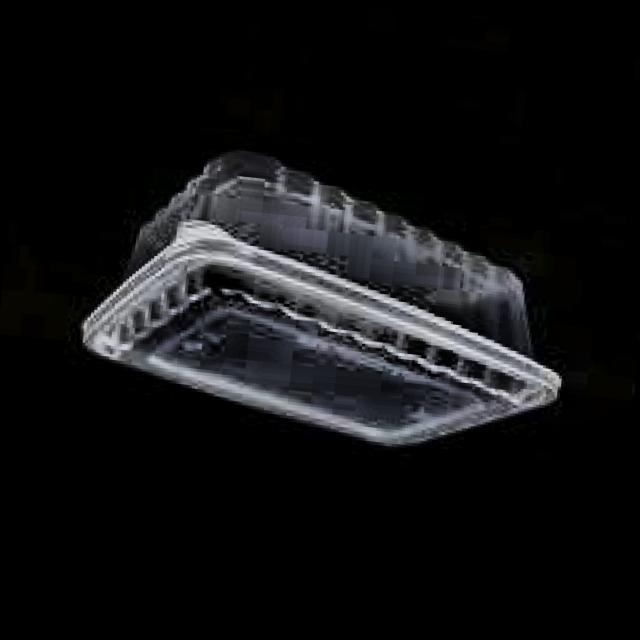plastic container: (82, 150, 560, 446)
